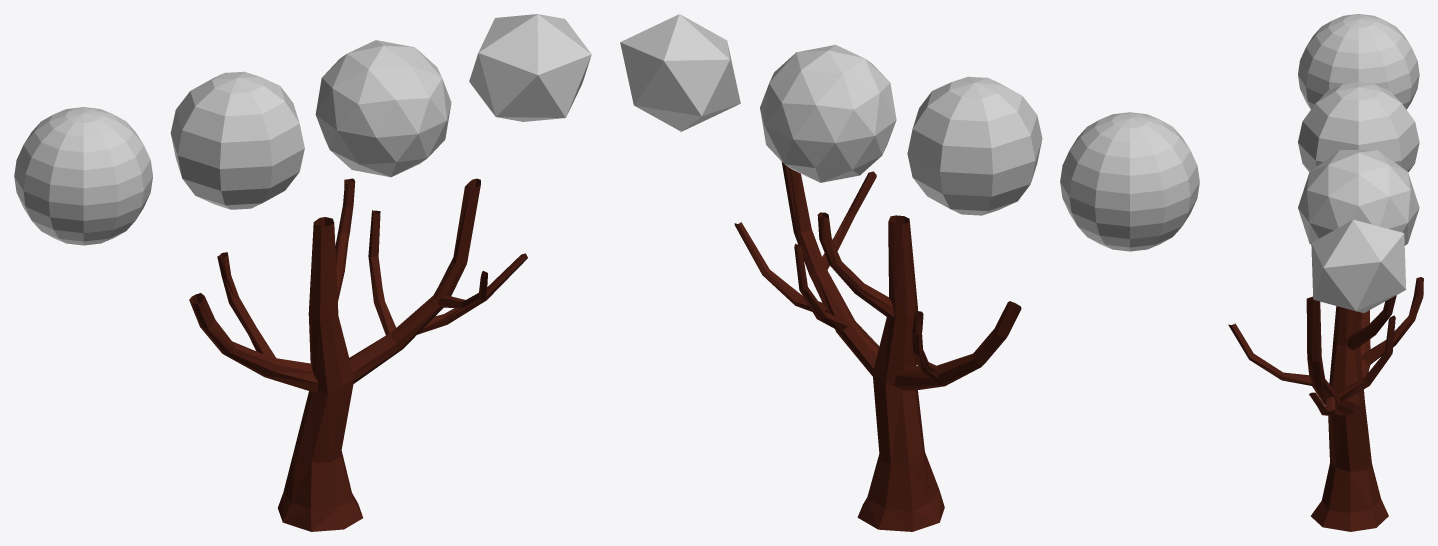
The model's file is TREE._1obj.obj.
3 renders of one model, left to right at view 1: azimuth 30°, elevation 25°; view 2: azimuth 150°, elevation 25°; view 3: azimuth 270°, elevation 25°, orthographic. The views are drawn at different scales.
Parts seen in each view (by area): view 1: Tree.032, Sphere.001, Sphere, Icosphere, Icosphere.001; view 2: Tree.032, Sphere.001, Sphere, Icosphere, Icosphere.001; view 3: Tree.032, Icosphere, Sphere.001, Sphere, Icosphere.001.
Part boxes in pixels (<box>): Tree.032: <box>189,178,527,531</box>; Sphere.001: <box>14,107,152,245</box>; Sphere: <box>170,71,304,209</box>; Icosphere: <box>315,40,451,177</box>; Icosphere.001: <box>469,14,591,121</box>; Tree.032: <box>734,162,1021,531</box>; Sphere.001: <box>1060,112,1199,251</box>; Sphere: <box>907,76,1042,215</box>; Icosphere: <box>760,45,896,182</box>; Icosphere.001: <box>620,14,740,131</box>; Tree.032: <box>1228,277,1423,531</box>; Icosphere: <box>1298,150,1419,245</box>; Sphere.001: <box>1298,14,1419,109</box>; Sphere: <box>1298,81,1419,172</box>; Icosphere.001: <box>1311,219,1406,312</box>.
Size of the model in its own units: 9.27 by 7.19 by 3.21.
